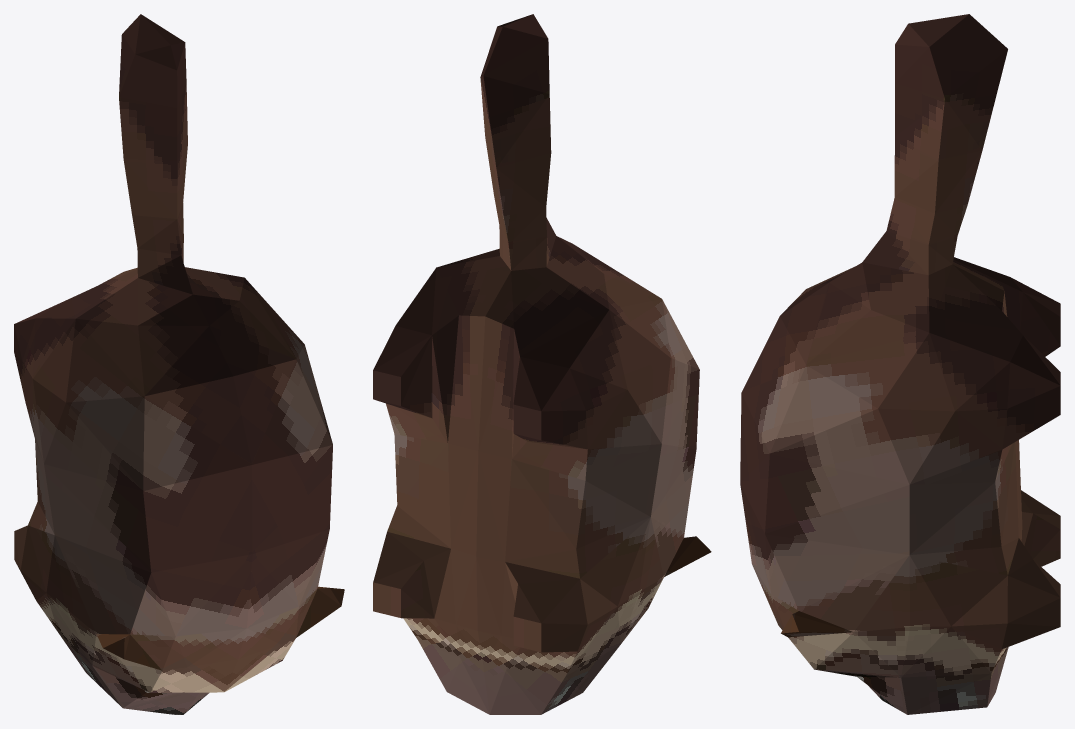
File: Wolfah.obj
3 renders of one model, left to right at view 1: azimuth 30°, elevation 25°; view 2: azimuth 150°, elevation 25°; view 3: azimuth 270°, elevation 25°, orthographic. The views are drawn at different scales.
Visible parts, largest first — view 1: obj1; view 2: obj1; view 3: obj1.
Part boxes in pixels (x1,y1,x2,y2): obj1: [14, 14, 344, 714]; obj1: [373, 14, 711, 714]; obj1: [740, 14, 1060, 714].
Size of the model in its own units: 1.2 by 3.08 by 1.29.
Materials: 1 (1 with a texture image).
